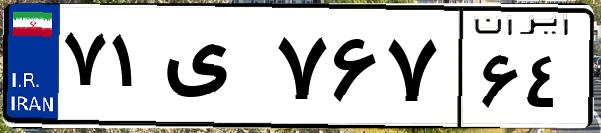1: (110, 28, 158, 98)
4: (525, 38, 570, 115)
6: (330, 28, 385, 110), (475, 38, 525, 113)
7: (270, 28, 330, 110), (385, 28, 445, 110), (57, 26, 110, 100)
ی: (158, 20, 270, 120)
